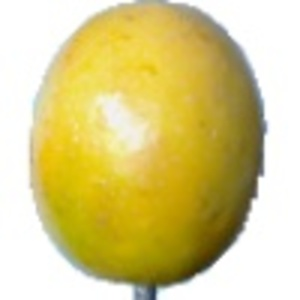maracujá: (26, 1, 270, 300)
